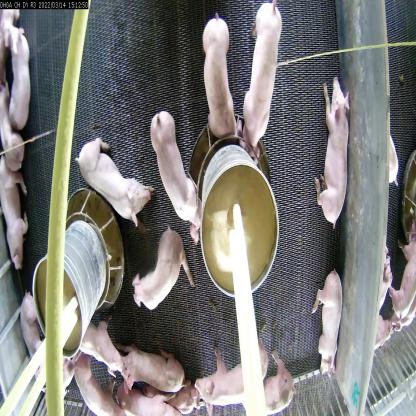Pig: (74, 128, 154, 227), (240, 4, 283, 161), (200, 20, 242, 142), (133, 226, 190, 311), (196, 350, 275, 410), (316, 76, 348, 223), (17, 298, 65, 390), (309, 267, 345, 379), (124, 338, 185, 399), (5, 32, 40, 136), (67, 350, 119, 415), (0, 163, 31, 259), (244, 360, 297, 414), (72, 319, 125, 369), (122, 386, 183, 415), (0, 96, 20, 169)
